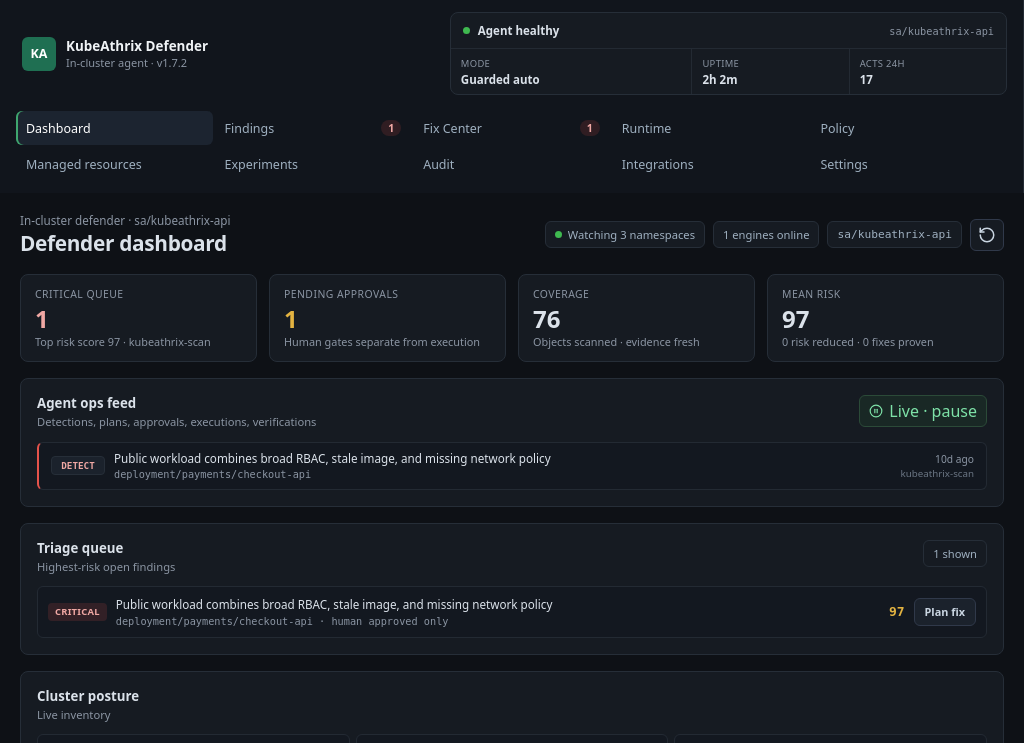
Scenario: KubeAthrix console › shows approved and execution-requested plan states instead of pending approval
Click the button "Findings 1" at (313, 128), box 215,111 -> 411,145
(page scrolled)
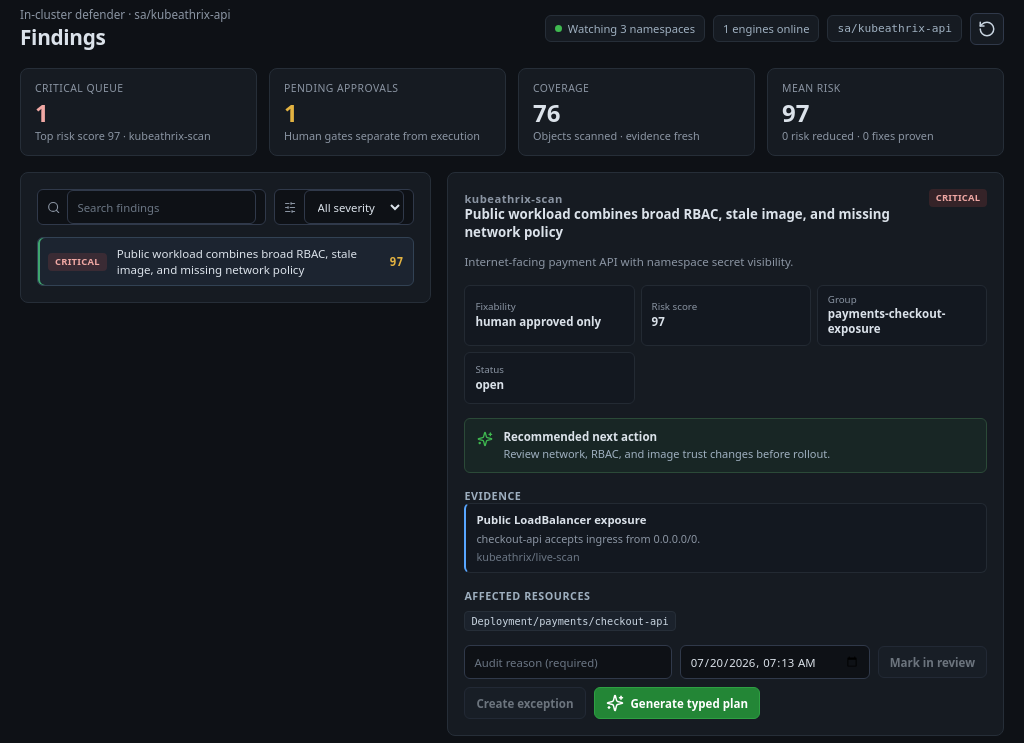
Click the button "Generate typed plan" at (677, 703), box 594,687 -> 760,719
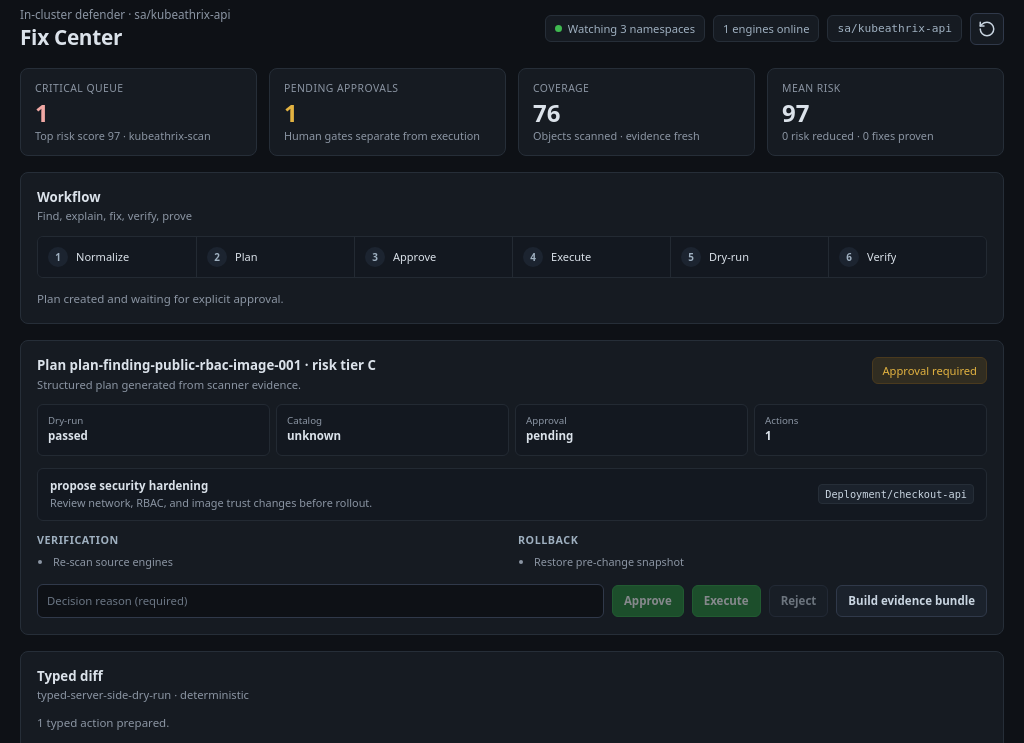
Expected: the text "Approval required" is shown, 872,357 -> 987,384
Type "reviewed" into the field named "Approval decision reason" at (320, 601), box 37,584 -> 604,618
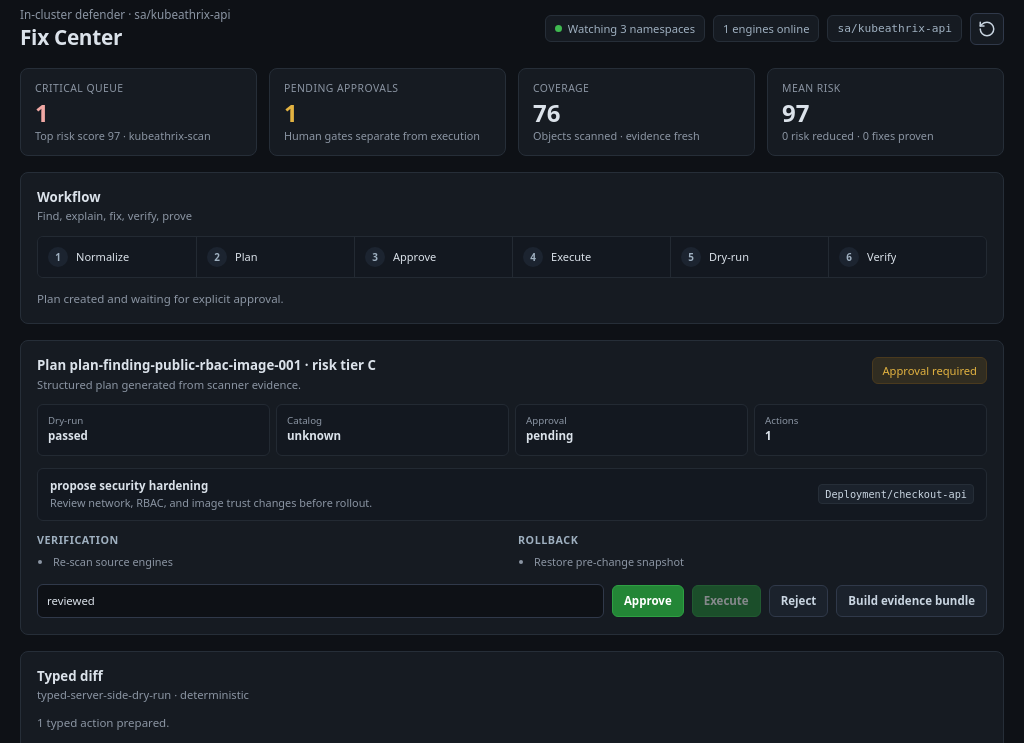
Click the button "Approve" at (648, 601), box 612,585 -> 684,617
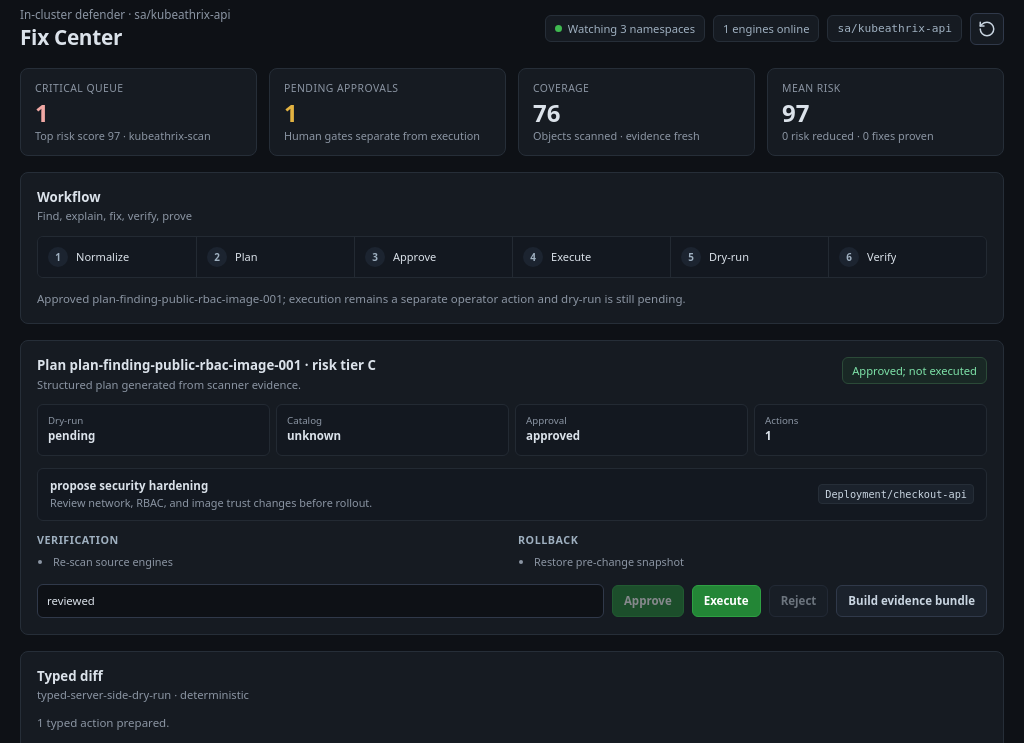
Expected: the text "Approved; not executed" is shown, 842,357 -> 987,384
Click the button "Execute" at (726, 601), box 692,585 -> 761,617
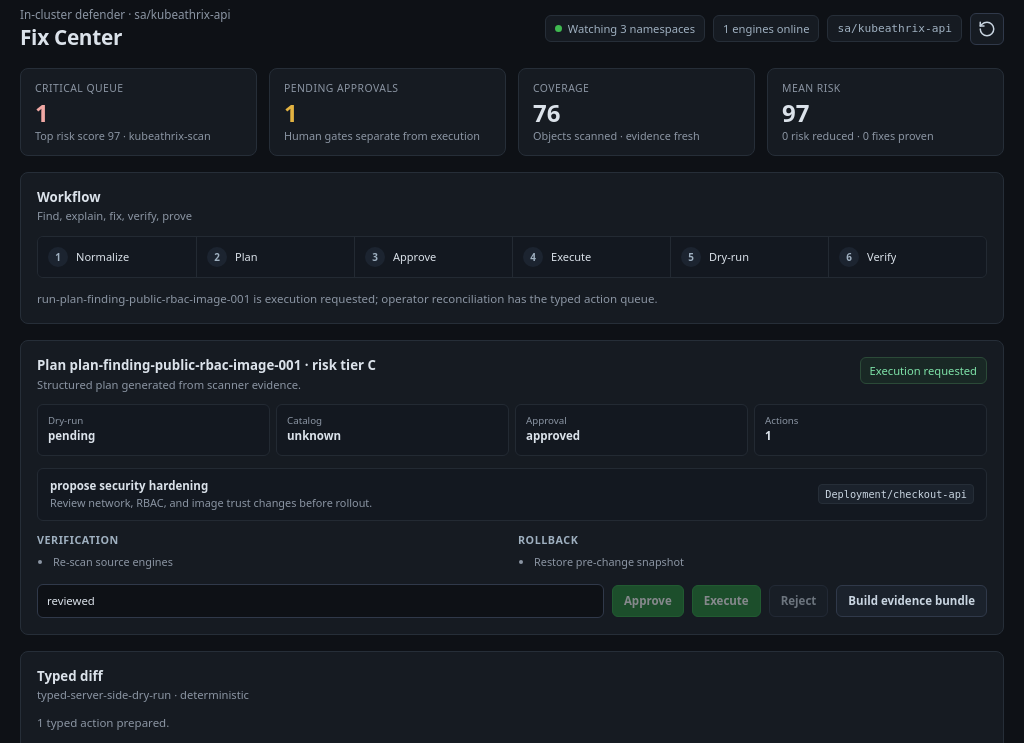
Expected: the text "Execution requested" is shown, 860,357 -> 987,384
